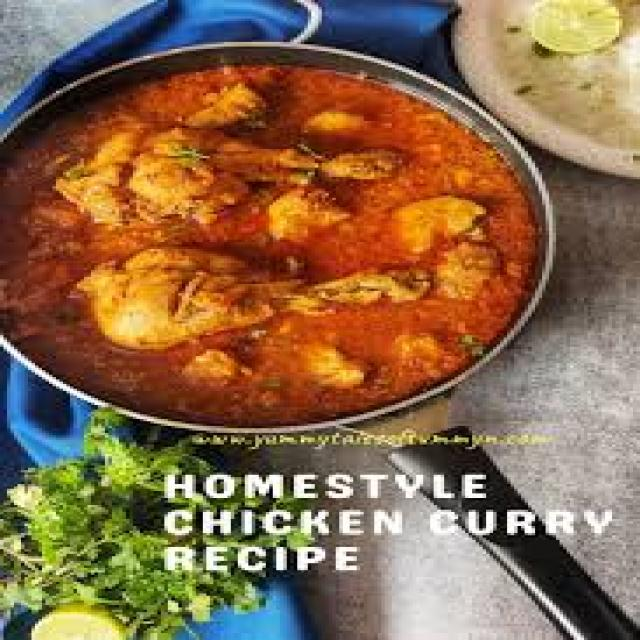Frango: (4, 63, 552, 423)
